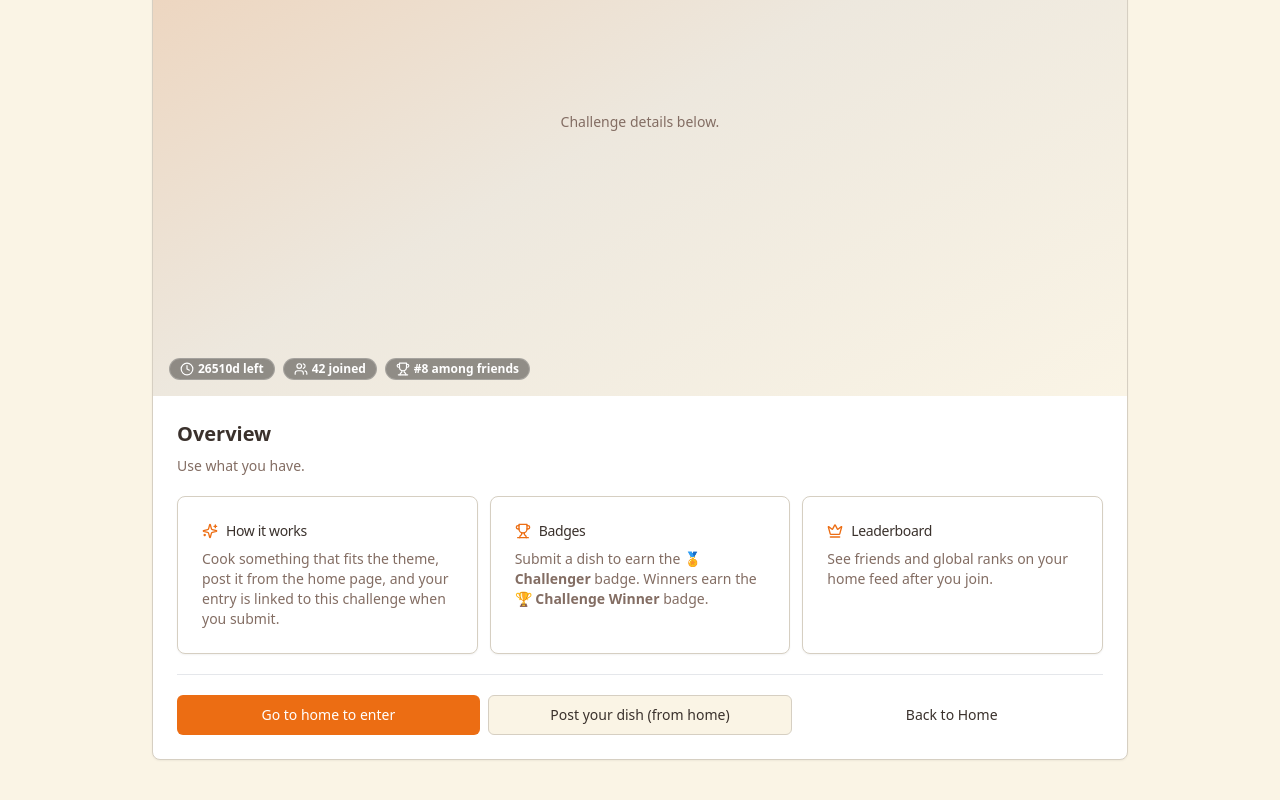
JoinChallengePage › opens the post-dish dialog and clears the form
(page scrolled)
Click the button "Post your dish (from home)" at (640, 715), box 488,695 -> 792,735
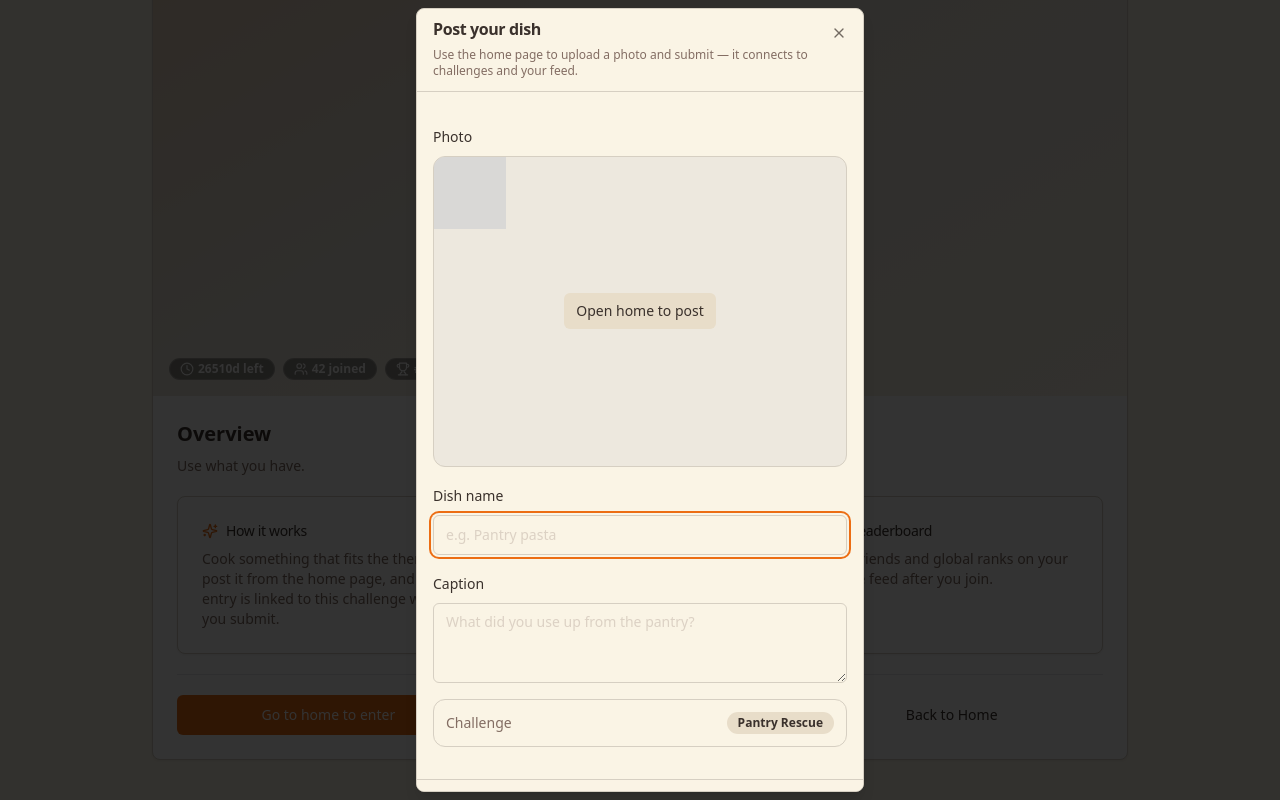
Type "Late Night Pasta" into the field labelled "Dish name" at (640, 534), box 433,514 -> 847,554
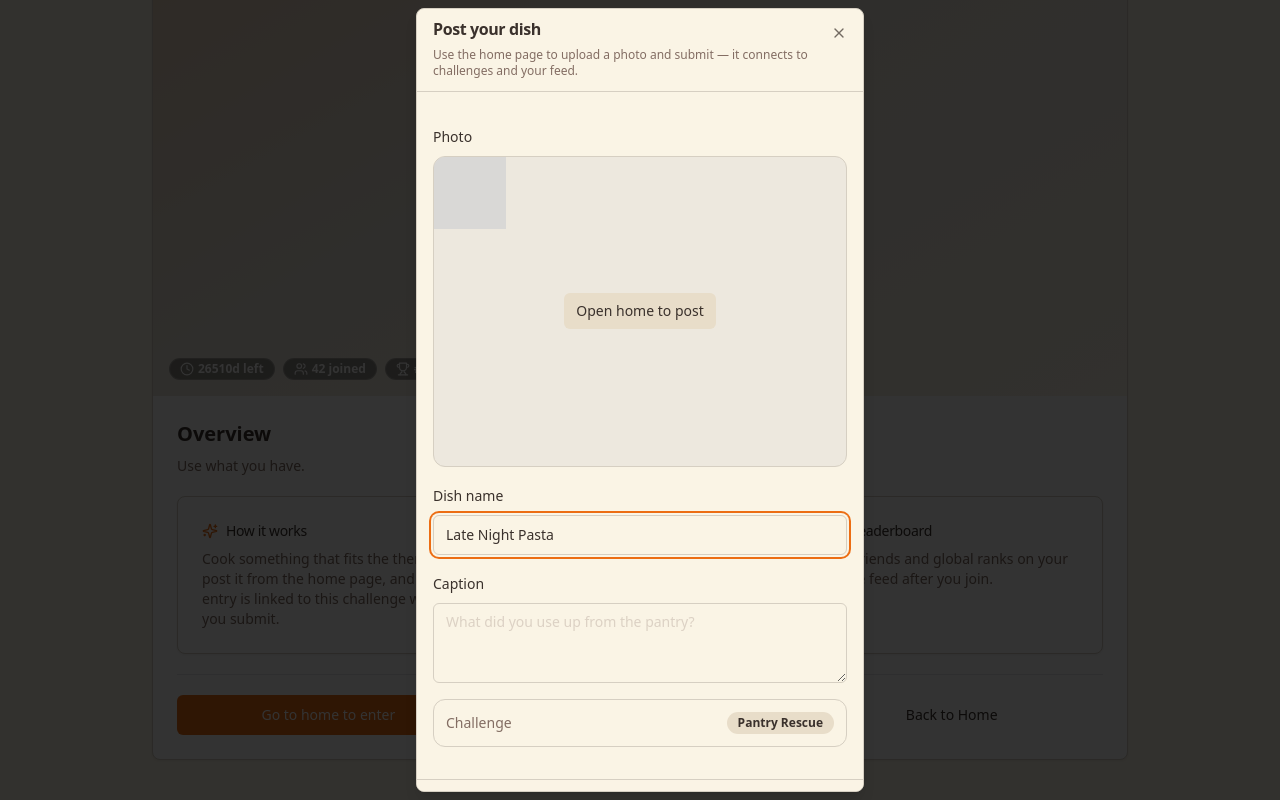
Type "Comfort food" into the text box labelled "Caption" at (640, 642), box 433,602 -> 847,682
(page scrolled)
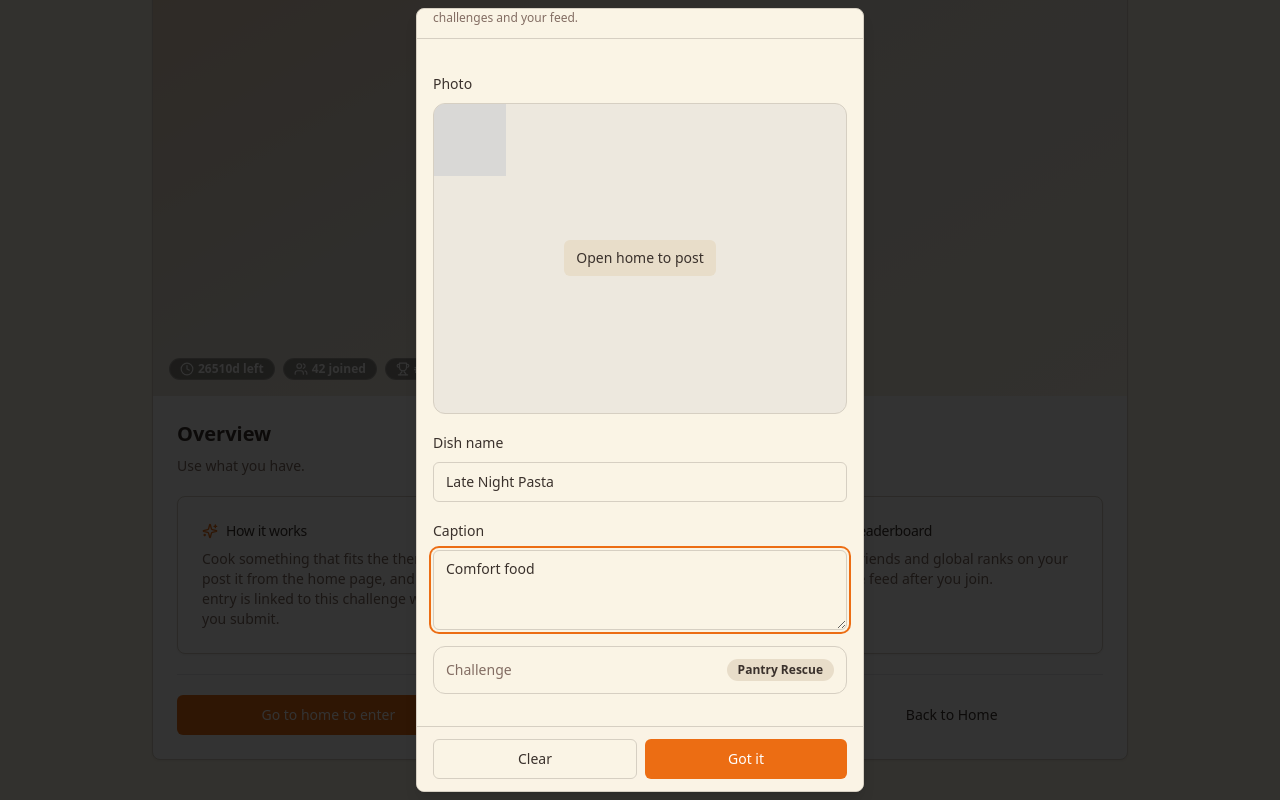
Click the button "Clear" at (535, 758), box 433,738 -> 637,778
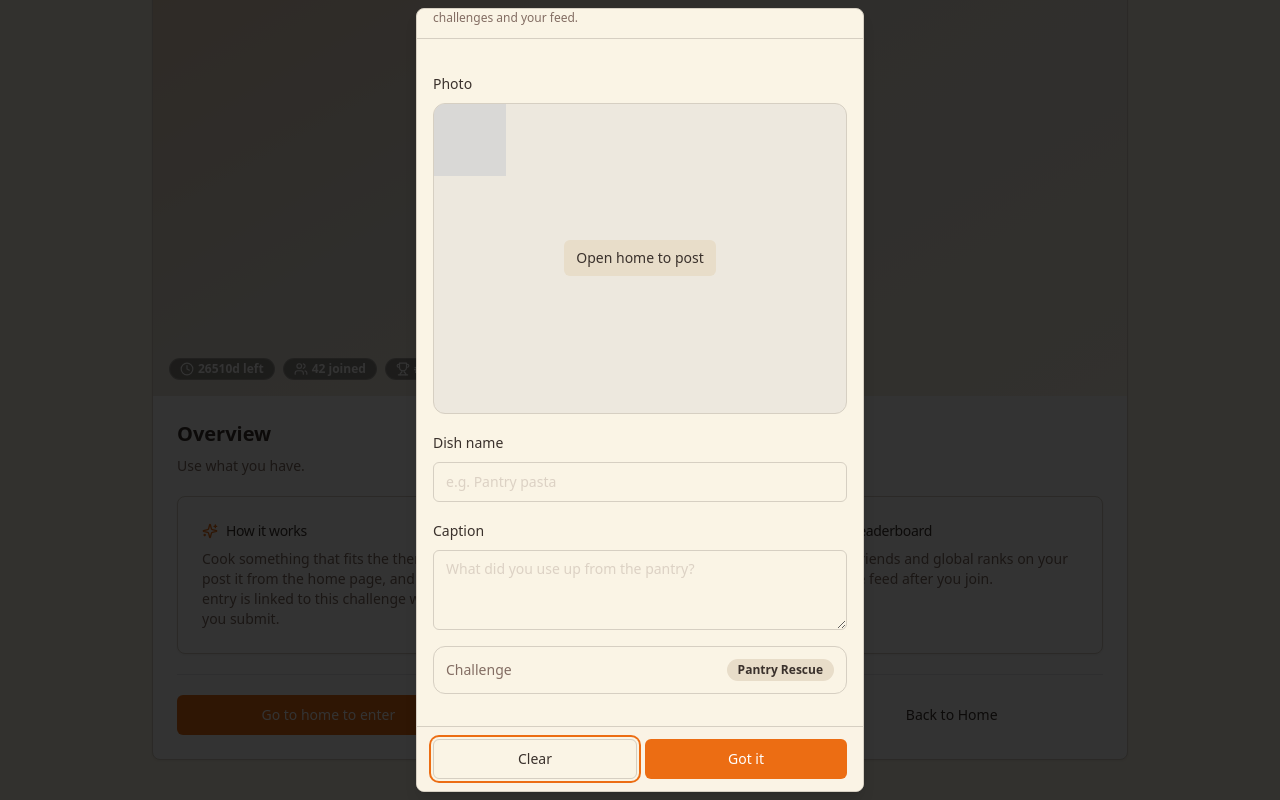
Expected: the field labelled "Dish name" is empty, 433,462 -> 847,502
Expected: the text box labelled "Caption" is empty, 433,550 -> 847,630
